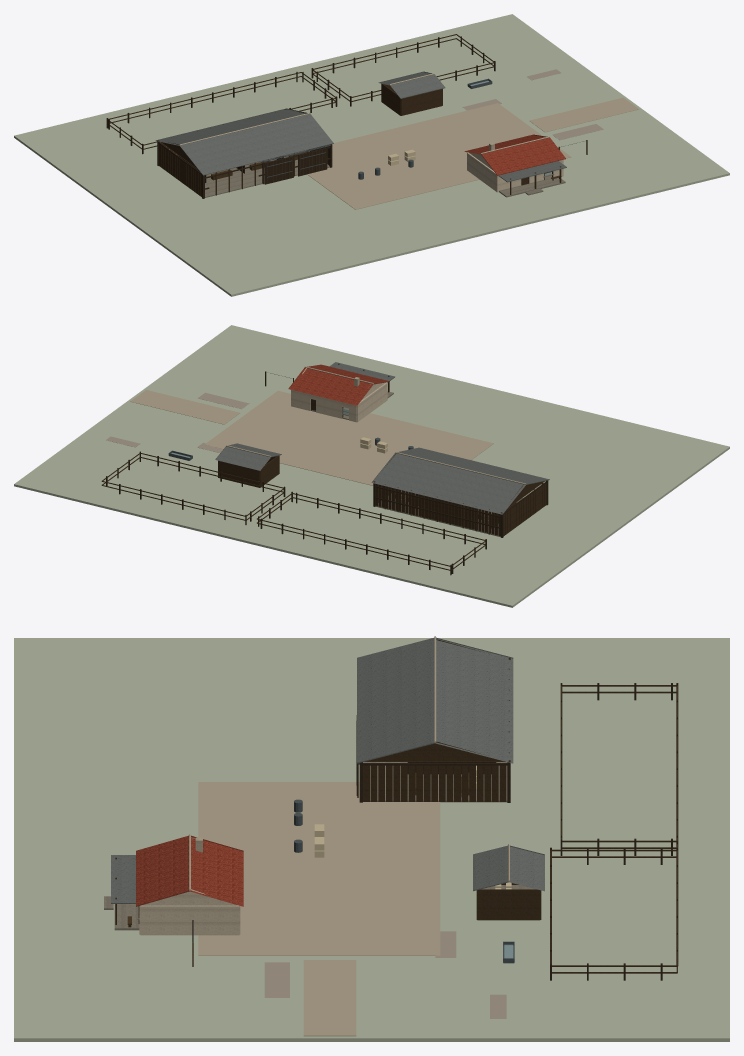
The model's file is LRP04.gltf.
3 renders of one model, top to bottom at view 1: azimuth 30°, elevation 25°; view 2: azimuth 150°, elevation 25°; view 3: azimuth 270°, elevation 25°, orthographic. The views are drawn at different scales.
Parts seen in each view (by area): view 1: TERRENO_BASE_0001, TERREIRO_0003, GALPAO_TELHADO_AGUA_SUL_0188, CASA_TELHADO_AGUA_SUL_0045, ESTRADA_TERRA_0002, GALPAO_TELHADO_AGUA_NORTE_0189, GALPAO_PISO_0055, DEPOSITO_RACAO_TELHADO_AGUA_SUL_0216, DEPOSITO_RACAO_TESTEIRA_0214, GALPAO_FOLHA_CORREDICA_0164, GALPAO_FOLHA_CORREDICA_0176, CASA_LATERAL_INTEGRA_0008 (+2 smaller); view 2: TERRENO_BASE_0001, TERREIRO_0003, GALPAO_TELHADO_AGUA_NORTE_0189, CASA_TELHADO_AGUA_NORTE_0046, ESTRADA_TERRA_0002, GALPAO_TELHADO_AGUA_SUL_0188, DEPOSITO_RACAO_TELHADO_AGUA_NORTE_0217, DEPOSITO_RACAO_TESTEIRA_0215, CASA_LATERAL_INTEGRA_0008, CASA_TELHADO_AGUA_SUL_0045, CASA_FUNDOS_ALVENARIA_1_0028; view 3: TERRENO_BASE_0001, TERREIRO_0003, GALPAO_TELHADO_AGUA_SUL_0188, GALPAO_TELHADO_AGUA_NORTE_0189, ESTRADA_TERRA_0002, CASA_LATERAL_INTEGRA_0009, CASA_TELHADO_AGUA_SUL_0045, CASA_TELHADO_AGUA_NORTE_0046, DEPOSITO_RACAO_LATERAL_0213, GALPAO_EMPENA_FECHADA_0192, DEPOSITO_RACAO_TELHADO_AGUA_SUL_0216, DEPOSITO_RACAO_TELHADO_AGUA_NORTE_0217 (+4 smaller).
Boxes of the visible parts, x1,y1,x2,y2 form: TERRENO_BASE_0001: (14,14,729,296); TERREIRO_0003: (307,103,571,209); GALPAO_TELHADO_AGUA_SUL_0188: (179,114,333,175); CASA_TELHADO_AGUA_SUL_0045: (481,137,565,175); ESTRADA_TERRA_0002: (529,97,638,132); GALPAO_TELHADO_AGUA_NORTE_0189: (155,108,307,145); GALPAO_PISO_0055: (205,150,329,197); DEPOSITO_RACAO_TELHADO_AGUA_SUL_0216: (389,74,445,98); DEPOSITO_RACAO_TESTEIRA_0214: (401,89,442,115); GALPAO_FOLHA_CORREDICA_0164: (264,156,293,184); GALPAO_FOLHA_CORREDICA_0176: (298,148,327,176); CASA_LATERAL_INTEGRA_0008: (467,152,497,192); TERRENO_BASE_0001: (14,325,729,607); TERREIRO_0003: (204,390,493,485); GALPAO_TELHADO_AGUA_NORTE_0189: (371,453,525,514); CASA_TELHADO_AGUA_NORTE_0046: (288,367,373,405); ESTRADA_TERRA_0002: (130,390,239,424); GALPAO_TELHADO_AGUA_SUL_0188: (397,447,549,484); DEPOSITO_RACAO_TELHADO_AGUA_NORTE_0217: (215,446,270,470); DEPOSITO_RACAO_TESTEIRA_0215: (218,460,259,487); CASA_LATERAL_INTEGRA_0008: (357,382,387,422); CASA_TELHADO_AGUA_SUL_0045: (305,364,389,384); CASA_FUNDOS_ALVENARIA_1_0028: (316,396,342,418); TERRENO_BASE_0001: (14,638,729,1041); TERREIRO_0003: (198,782,440,955); GALPAO_TELHADO_AGUA_SUL_0188: (357,638,435,763); GALPAO_TELHADO_AGUA_NORTE_0189: (435,638,513,763); ESTRADA_TERRA_0002: (303,960,356,1036); CASA_LATERAL_INTEGRA_0009: (140,905,239,935); CASA_TELHADO_AGUA_SUL_0045: (136,835,189,906); CASA_TELHADO_AGUA_NORTE_0046: (190,835,243,906); DEPOSITO_RACAO_LATERAL_0213: (477,889,540,920); GALPAO_EMPENA_FECHADA_0192: (364,741,505,761); DEPOSITO_RACAO_TELHADO_AGUA_SUL_0216: (473,845,508,891); DEPOSITO_RACAO_TELHADO_AGUA_NORTE_0217: (509,845,544,891).
Size of the model in its own units: 90 by 6.93 by 68.
Materials: 8 (6 with a texture image).
